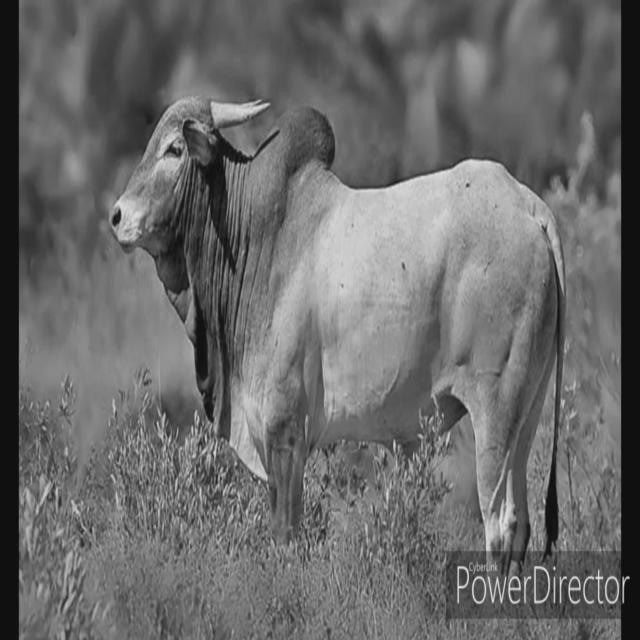Cow: (108, 90, 568, 589)
